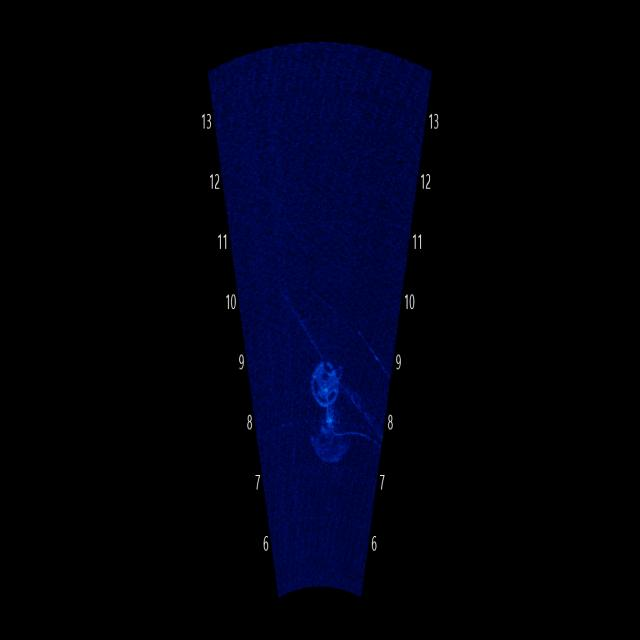circle: (297, 340, 352, 423)
